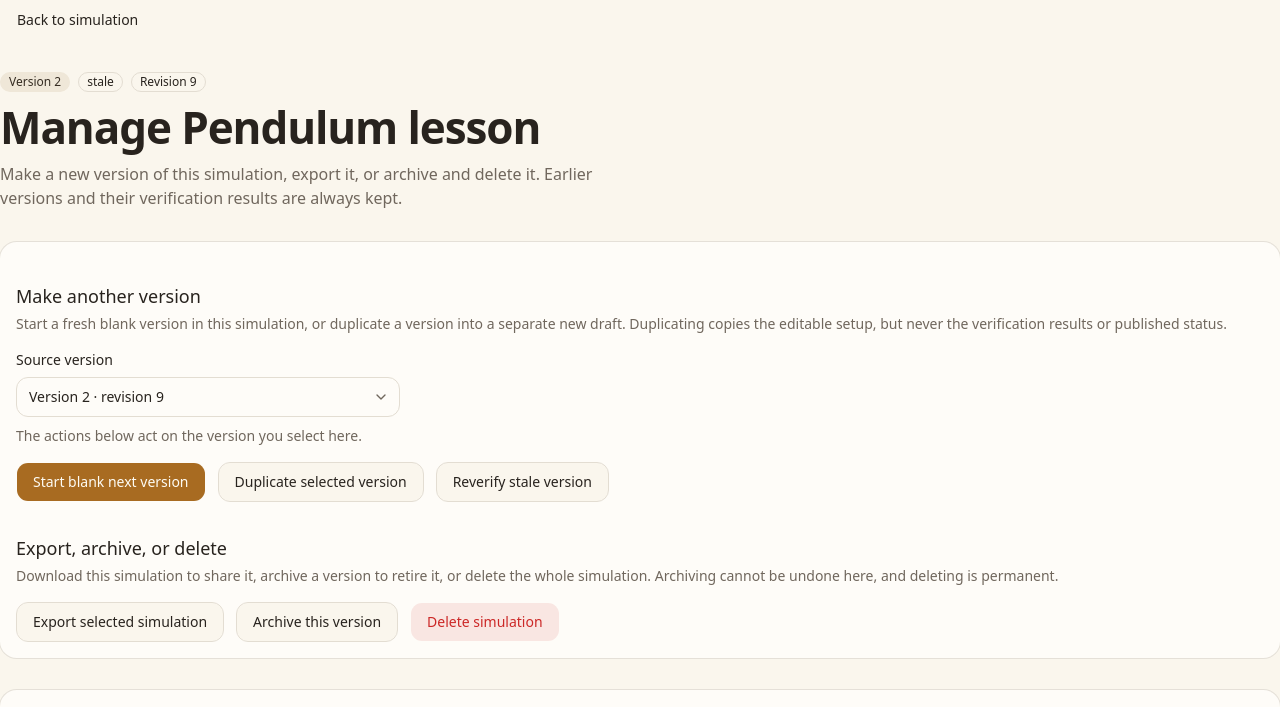
Test: removes password fields from export and deletion under local test access
Check: the heading "Manage Pendulum lesson" is shown, box top-left (0, 104), bottom-right (595, 150)
Click the button "Export selected simulation" at [120, 622], box top-left (16, 602), bottom-right (224, 642)
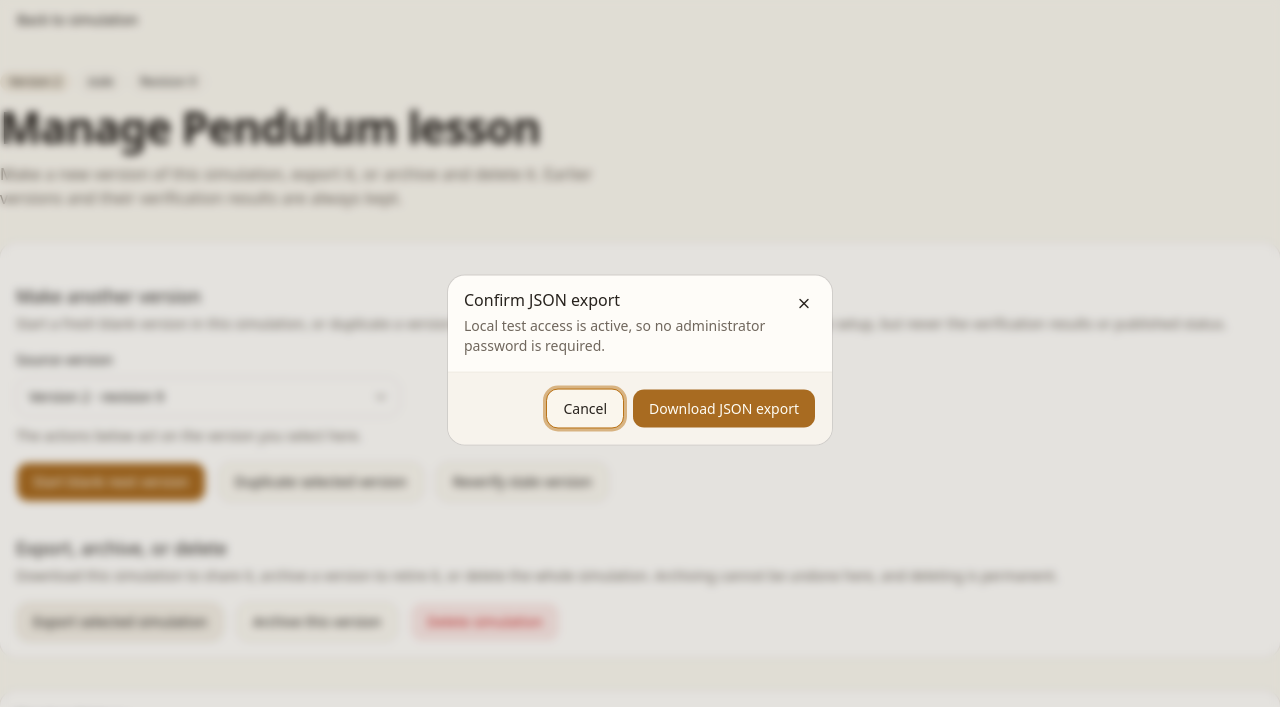
Click the button "Download JSON export" at [724, 408], box top-left (632, 388), bottom-right (816, 428)
(page scrolled)
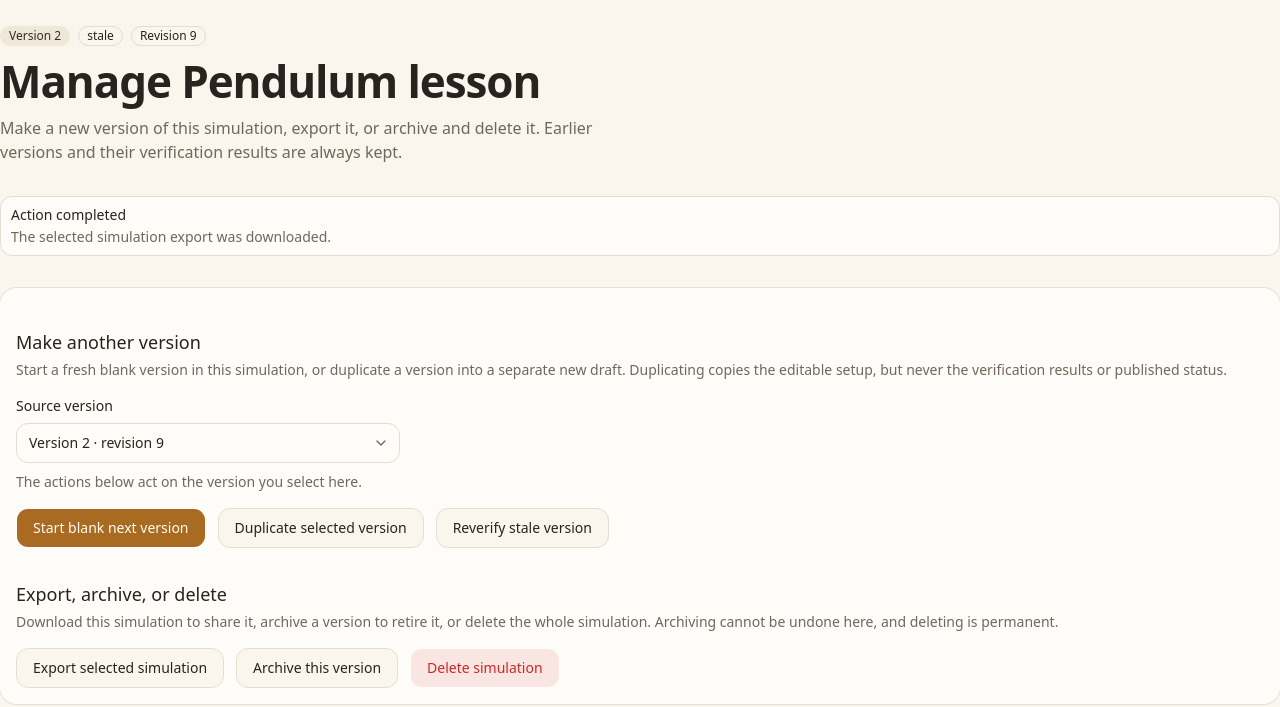
Click the button "Delete simulation" at [485, 668], box top-left (410, 648), bottom-right (560, 688)
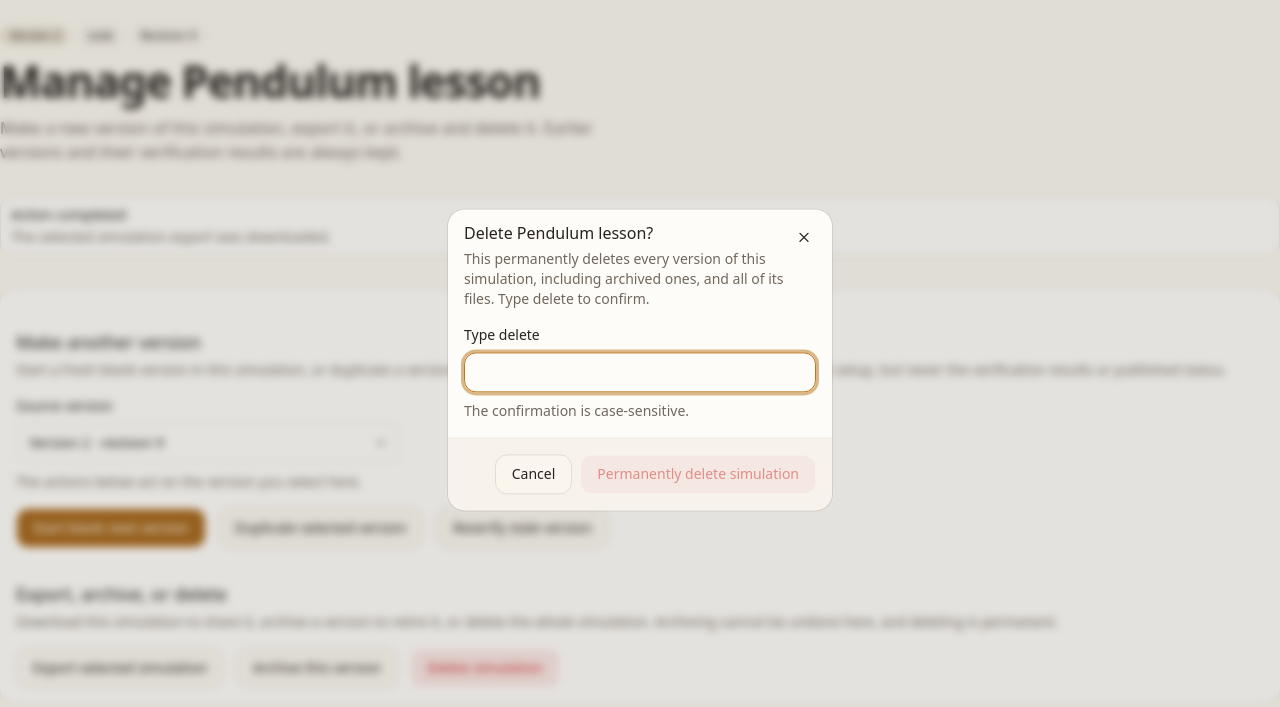
Check: the field labelled "Type delete" is shown, box top-left (464, 353), bottom-right (816, 393)
